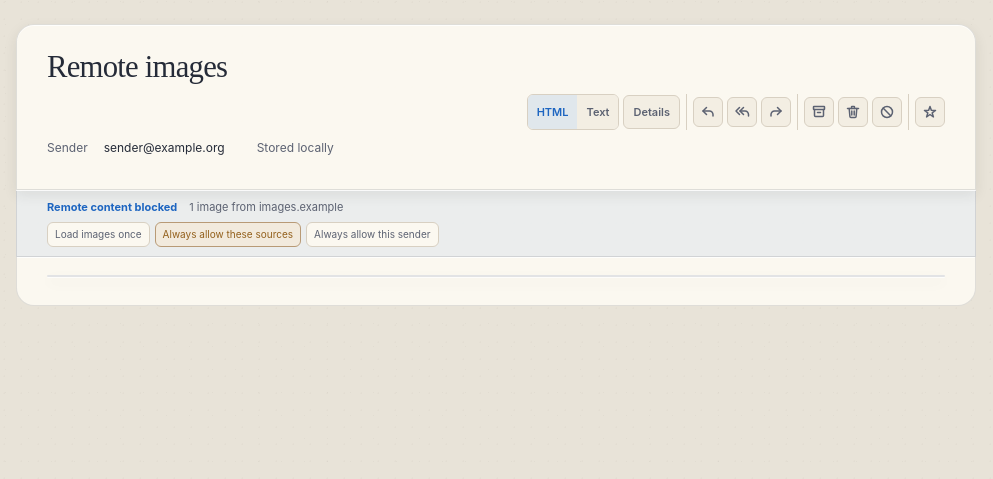
Test: MessageView › keeps the reading controls available next to the icon actions
Click the button "Details": (652, 112) x1=624 y1=95 x2=680 y2=129
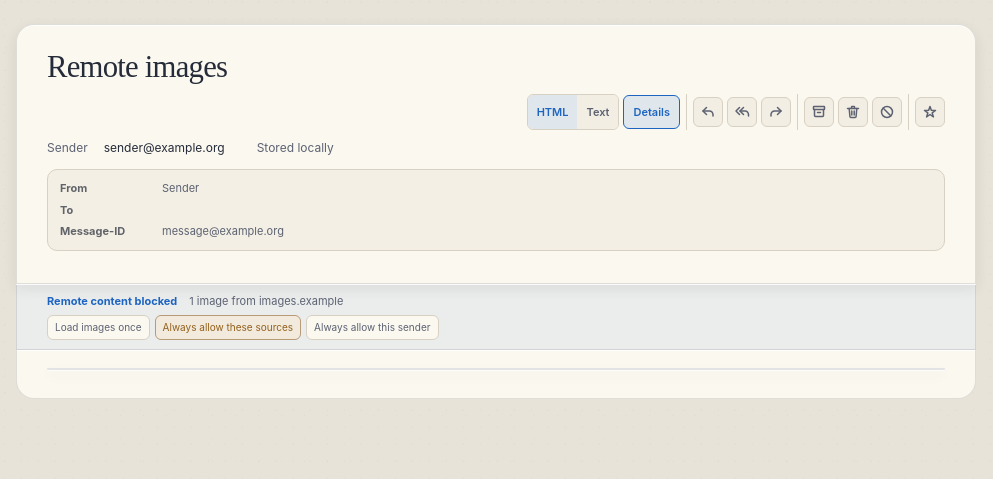
Check: the text "Message-ID" is shown, box x1=60 y1=224 x2=125 y2=238
